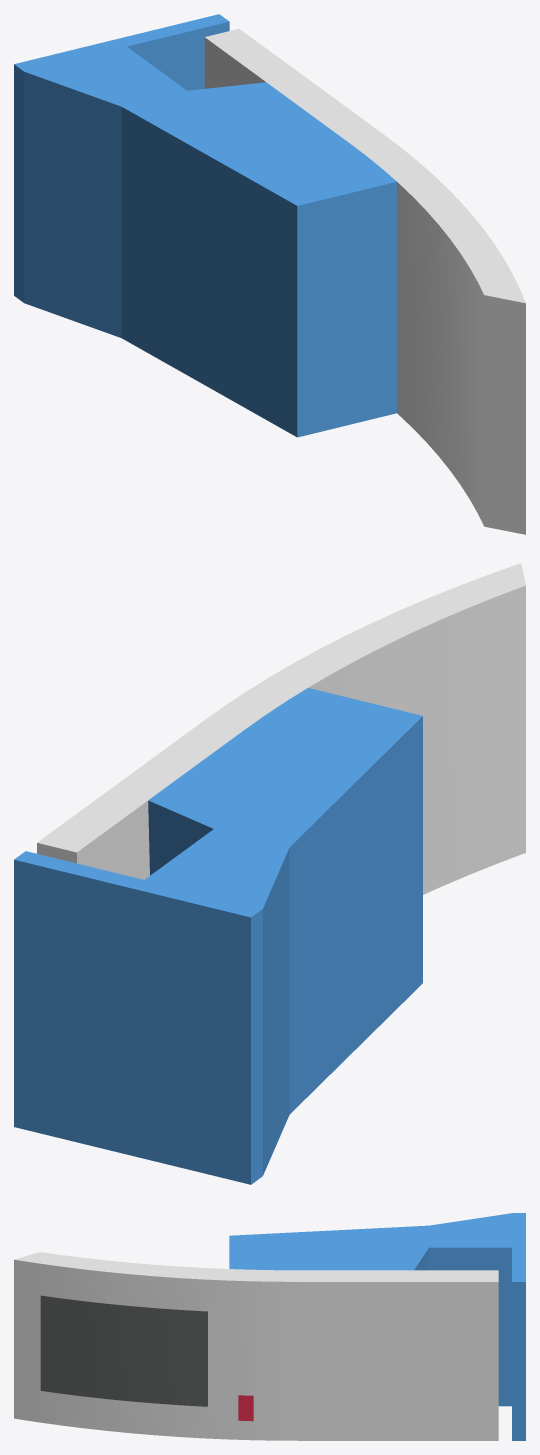
File: ticket_vending_machine_2.dae
3 views of the same model, one above another, from view 1: azimuth 30°, elevation 25°; view 2: azimuth 150°, elevation 25°; view 3: azimuth 270°, elevation 25° (orthographic). The views are drawn at different scales.
Parts seen in each view (by area): view 1: coords_ME_ID3_MA_material, coords_ME_ID11_MA_material_0; view 2: coords_ME_ID3_MA_material, coords_ME_ID11_MA_material_0; view 3: coords_ME_ID11_MA_material_0, coords_ME_ID3_MA_material, coords_ME_ID19_MA_material_1, coords_ME_ID27_MA_material_2.
Boxes of the visible parts, x1,y1,x2,y2 form: coords_ME_ID3_MA_material: [14, 14, 396, 437]; coords_ME_ID11_MA_material_0: [204, 29, 525, 534]; coords_ME_ID3_MA_material: [14, 688, 422, 1184]; coords_ME_ID11_MA_material_0: [37, 563, 525, 894]; coords_ME_ID11_MA_material_0: [14, 1252, 498, 1440]; coords_ME_ID3_MA_material: [229, 1213, 525, 1440]; coords_ME_ID19_MA_material_1: [40, 1295, 207, 1406]; coords_ME_ID27_MA_material_2: [238, 1395, 253, 1421].
Bounding box in the file's own units: 4.64 × 5 × 14.6.
